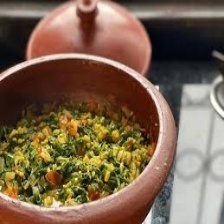sabzi: (0, 92, 157, 206)
